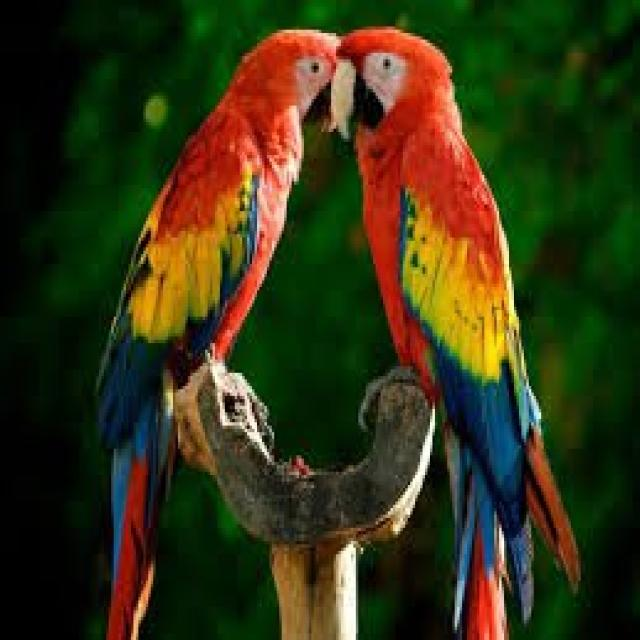Parrot: (89, 26, 351, 640), (334, 28, 586, 640)
